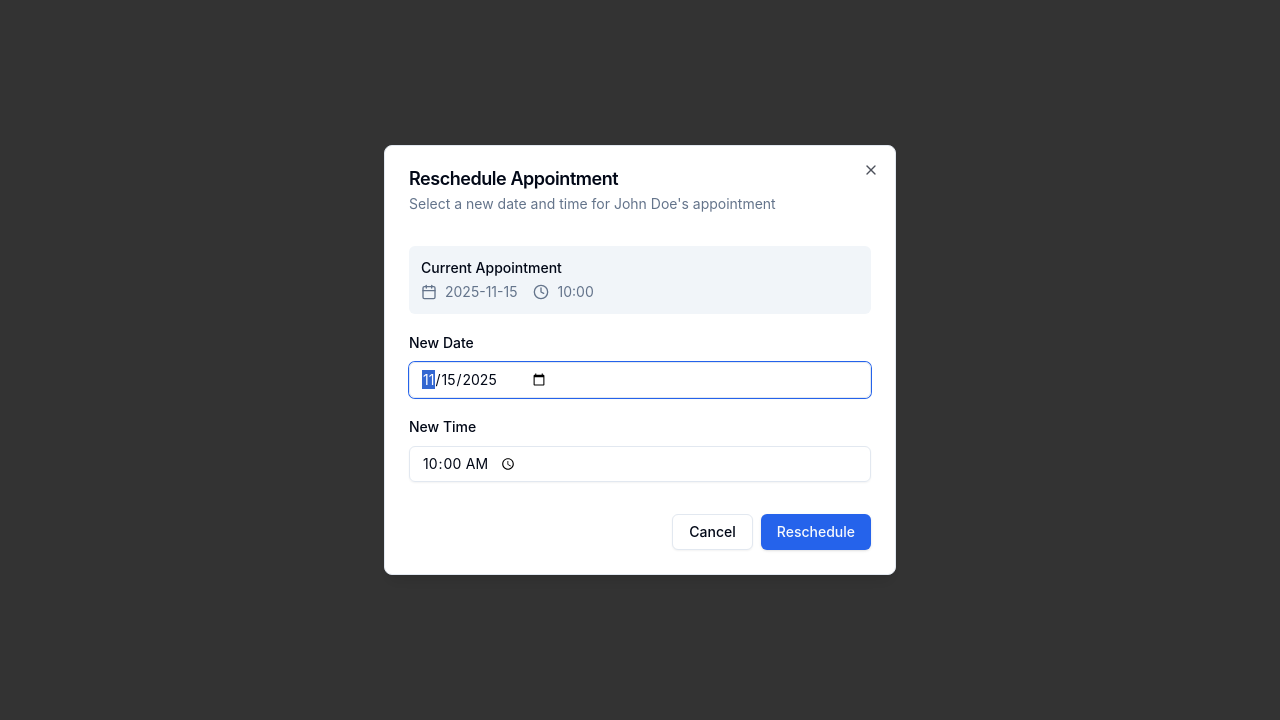
it: RescheduleDialog › validates that date and time are provided
Clear the date field labelled "New Date" at (640, 380), box [409, 362, 871, 398]
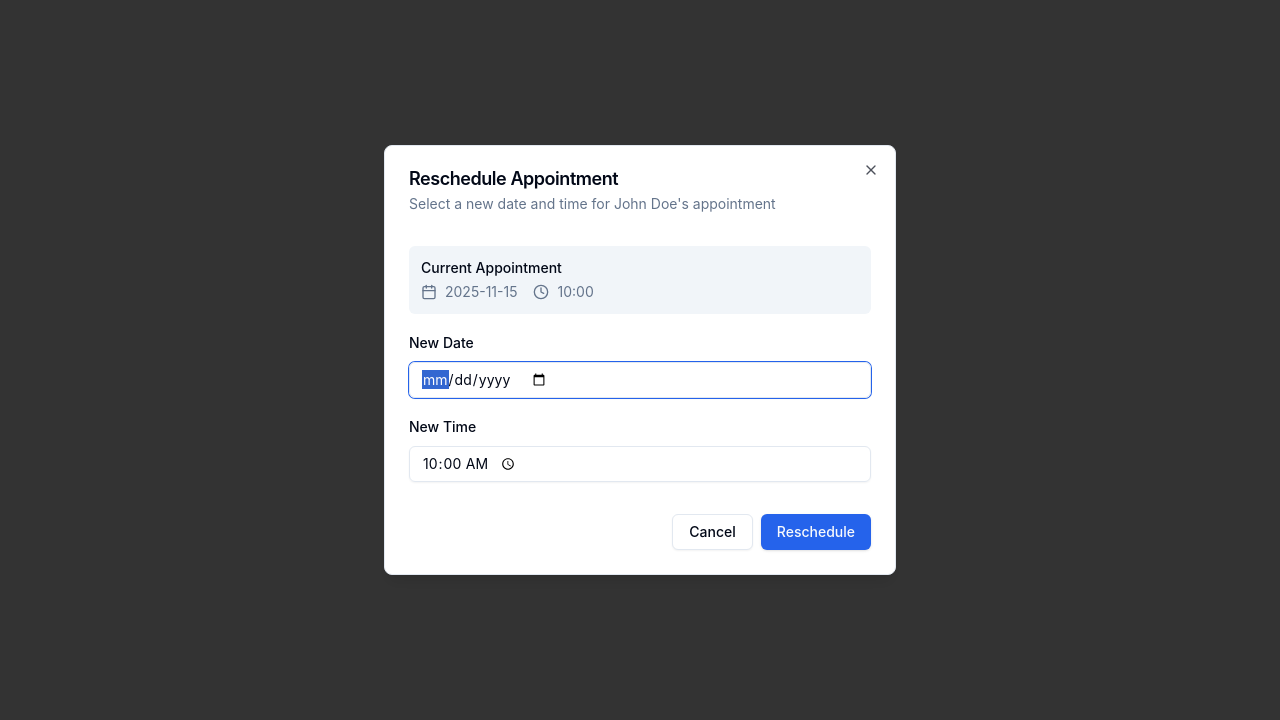
Click the button "Reschedule" at (816, 532), box [761, 514, 871, 550]
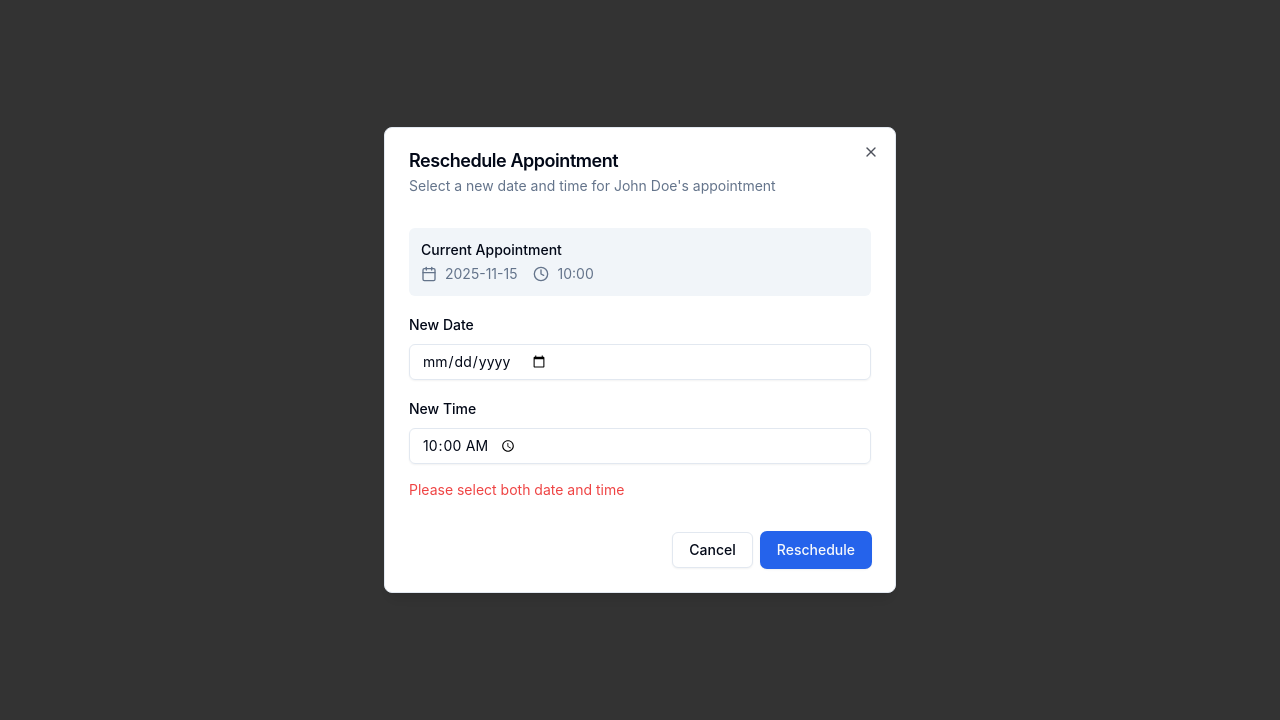
Expected: the text "Please select both date and time" is shown, [409, 481, 624, 498]
